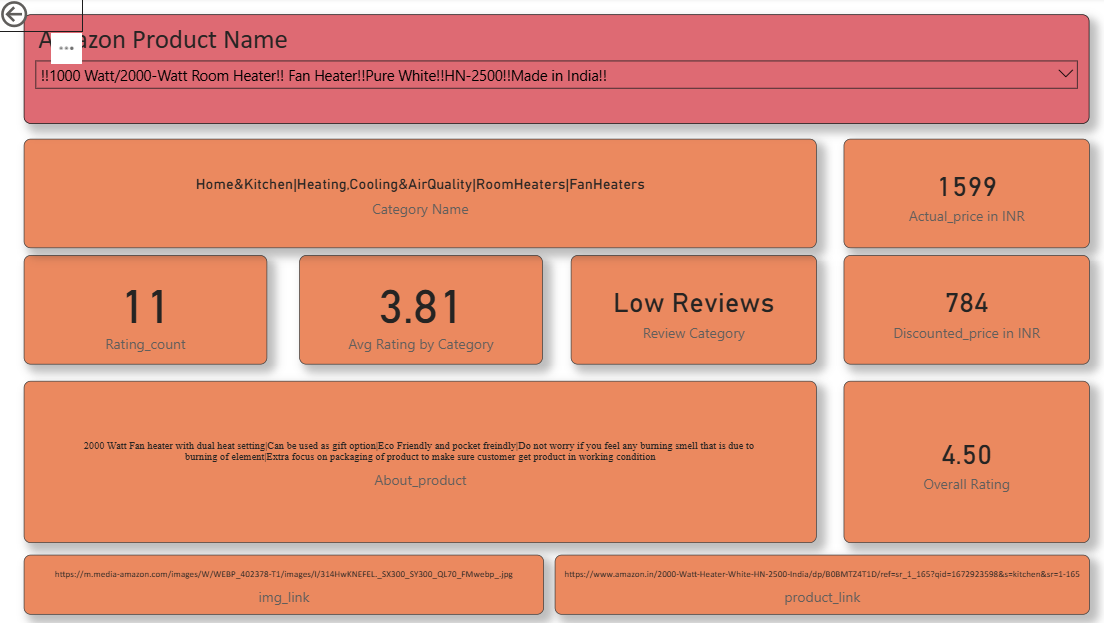

What the dashboard file says about the page in this screenshot:
{"tool":"powerbi","page":{"name":"Page 1","canvas":[1280,720],"ordinal":0},"visuals":[{"type":"card","fields":{"Values":["Sum(amazon.Rating_count)"]},"box":[30.7,296.5,279.6,126],"z":0},{"type":"card","fields":{"Values":["Sum(amazon.Avg Rating by Category)"]},"box":[347.2,296.5,279.6,126],"z":1},{"type":"card","fields":{"Values":["Min(amazon.Review Category)"]},"box":[659,296.5,282.6,126],"z":2},{"type":"card","fields":{"Values":["Min(amazon.category)"]},"box":[30.7,162.8,910.9,126],"z":3},{"type":"slicer","fields":{"Values":["amazon.product_name"]},"box":[30.7,20,1224.3,126],"z":4},{"type":"card","fields":{"Values":["Min(amazon.about_product)"]},"box":[30.7,440.9,910.9,185.9],"z":5},{"type":"actionButton","box":[0,0,100,40],"z":7},{"type":"card","fields":{"Values":["Sum(amazon.actual_price)"]},"box":[972.4,162.8,282.6,126],"z":8},{"type":"card","fields":{"Values":["Sum(amazon.discounted_price)"]},"box":[972.4,296.5,282.6,126],"z":9},{"type":"card","fields":{"Values":["Sum(amazon.rating)"]},"box":[972.4,440.9,282.6,185.9],"z":10},{"type":"card","fields":{"Values":["Min(amazon.img_link)"]},"box":[30.7,640.6,597.6,69.1],"z":11},{"type":"card","fields":{"Values":["Min(amazon.product_link)"]},"box":[640.6,640.6,614.4,69.1],"z":12}]}

Visuals, with their boxes in screenshot pixels (x1, y1, x2, y2):
card - Sum(amazon.Rating_count): (left=18, top=253, right=265, bottom=364)
card - Sum(amazon.Avg Rating by Category): (left=298, top=253, right=544, bottom=364)
card - Min(amazon.Review Category): (left=573, top=253, right=822, bottom=364)
card - Min(amazon.category): (left=18, top=135, right=822, bottom=246)
slicer - amazon.product_name: (left=18, top=9, right=1098, bottom=120)
card - Min(amazon.about_product): (left=18, top=380, right=822, bottom=544)
actionButton: (left=0, top=0, right=80, bottom=27)
card - Sum(amazon.actual_price): (left=849, top=135, right=1098, bottom=246)
card - Sum(amazon.discounted_price): (left=849, top=253, right=1098, bottom=364)
card - Sum(amazon.rating): (left=849, top=380, right=1098, bottom=544)
card - Min(amazon.img_link): (left=18, top=556, right=545, bottom=617)
card - Min(amazon.product_link): (left=556, top=556, right=1098, bottom=617)
